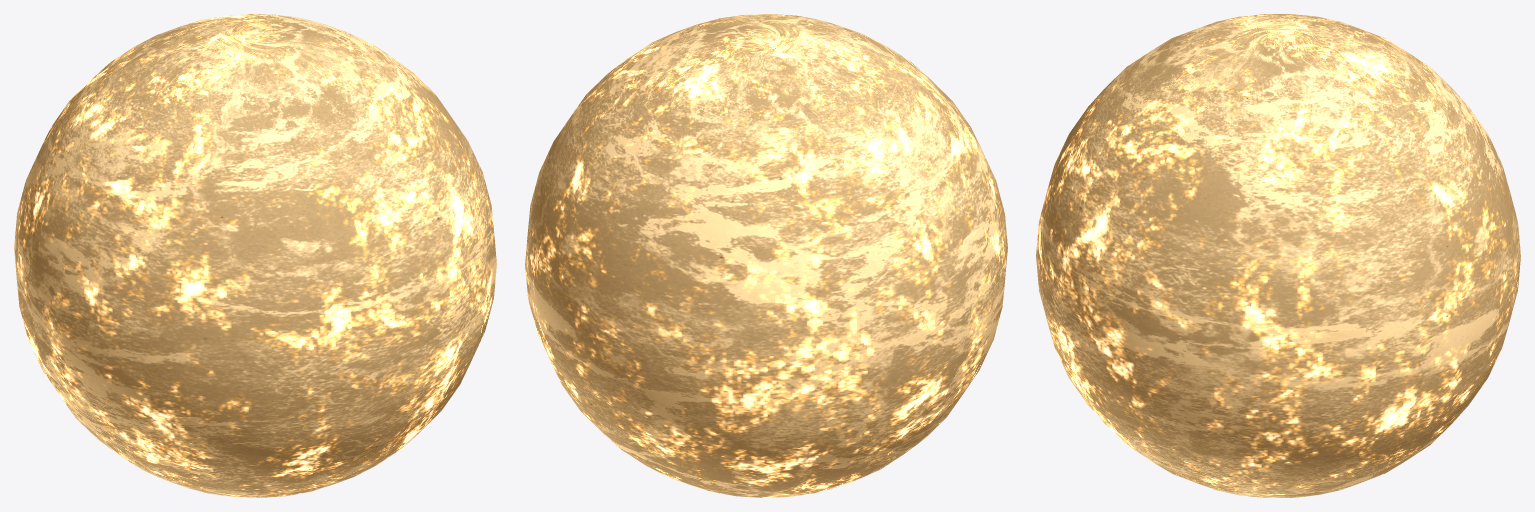
The model's file is Main V2.glb.
3 renders of one model, left to right at view 1: azimuth 30°, elevation 25°; view 2: azimuth 150°, elevation 25°; view 3: azimuth 270°, elevation 25°, orthographic.
Parts seen in each view (by area): view 1: Main; view 2: Main; view 3: Main.
Part boxes in pixels (x1,y1,x2,y2): Main: [14, 14, 496, 497]; Main: [525, 14, 1007, 497]; Main: [1036, 14, 1520, 497].
Size of the model in its own units: 1.99 by 2 by 2.
Materials: 1 (1 with a texture image).
